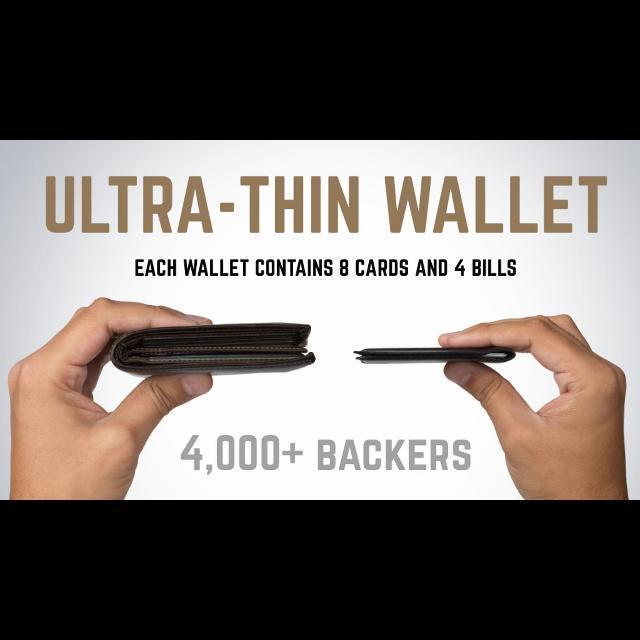wallet: (106, 320, 320, 376), (353, 342, 519, 368)
